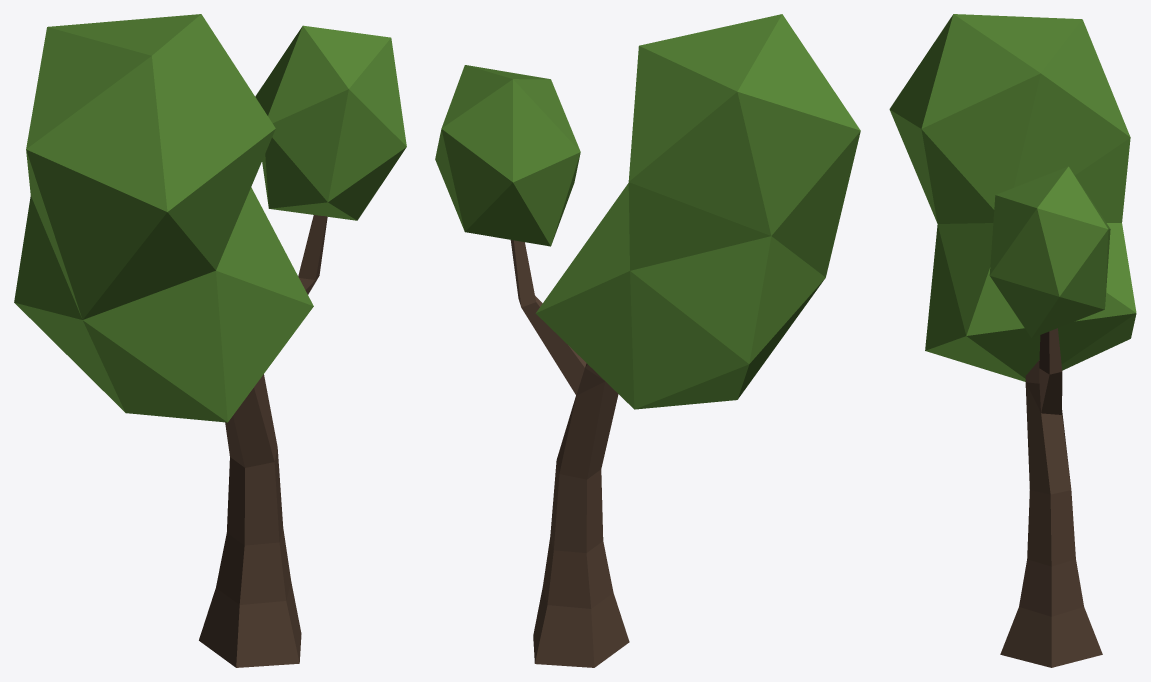
File: tree01.fbx
The picture shows the model from 3 angles, left to right: view 1: azimuth 30°, elevation 25°; view 2: azimuth 150°, elevation 25°; view 3: azimuth 270°, elevation 25°; orthographic projection. The views are drawn at different scales.
Parts seen in each view (by area): view 1: pCube4; view 2: pCube4; view 3: pCube4.
Part boxes in pixels (x1,y1,x2,y2): pCube4: (14,14,406,667); pCube4: (435,14,860,667); pCube4: (889,14,1136,667).
Bounding box in the file's own units: 3.6 × 5.6 × 2.21.
